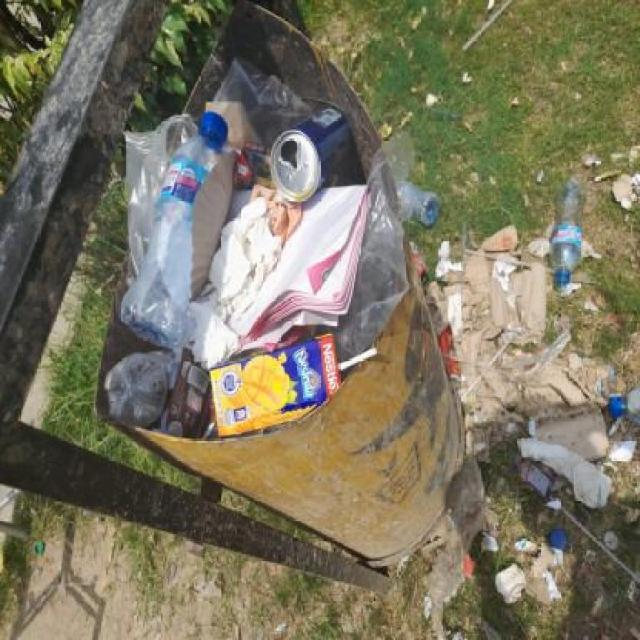garbage: (100, 2, 640, 640)
